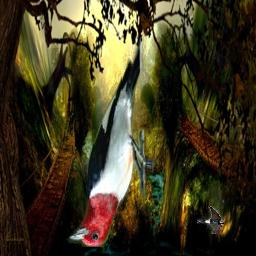Swallow: (198, 206, 225, 234)
Woodpecker: (67, 37, 156, 247)
